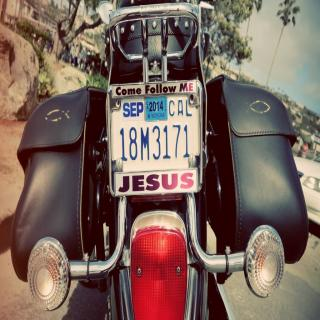license: (107, 77, 203, 203)
